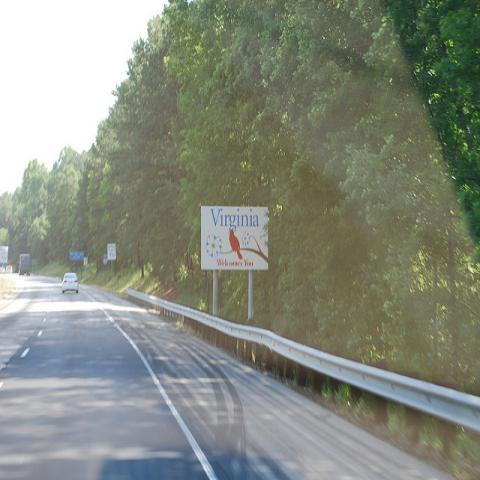car: (62, 273, 79, 294), (6, 265, 13, 274)
truck: (18, 254, 30, 276)
